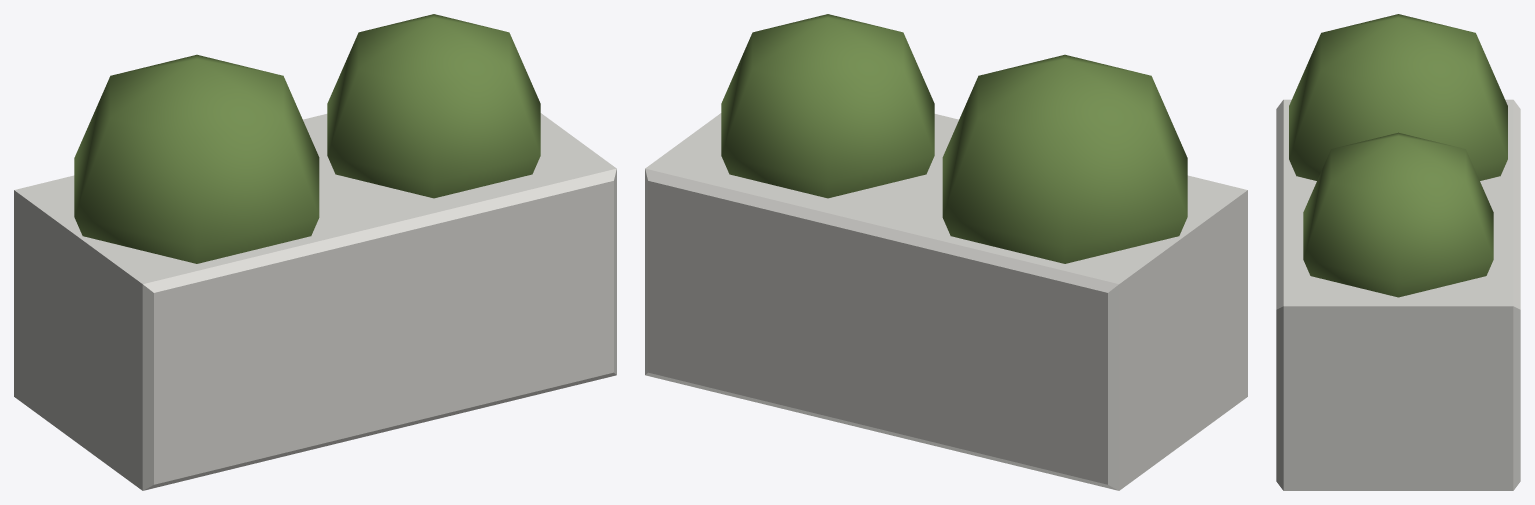
Rendered from asset-props-planter.glb.
The picture shows the model from 3 angles, left to right: view 1: azimuth 30°, elevation 25°; view 2: azimuth 150°, elevation 25°; view 3: azimuth 270°, elevation 25°; orthographic projection. The views are drawn at different scales.
Visible parts, largest first — view 1: material-batch-0, material-batch-1; view 2: material-batch-0, material-batch-1; view 3: material-batch-0, material-batch-1.
Part boxes in pixels (bbox=[...]): material-batch-0: bbox=[14, 113, 616, 490]; material-batch-1: bbox=[74, 14, 540, 263]; material-batch-0: bbox=[645, 113, 1247, 490]; material-batch-1: bbox=[721, 14, 1187, 263]; material-batch-0: bbox=[1276, 99, 1520, 490]; material-batch-1: bbox=[1289, 14, 1507, 297].
Size of the model in its own units: 1.21 by 0.86 by 0.6.
